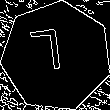L_S: (38, 29, 75, 84)
